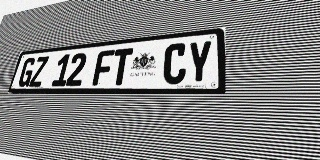1: (51, 54, 73, 86)
2: (66, 52, 88, 86)
C: (162, 42, 187, 84)
F: (92, 50, 115, 86)
G: (17, 57, 37, 87)
T: (110, 48, 133, 85)
Y: (186, 40, 212, 84)
Z: (29, 56, 49, 87)
